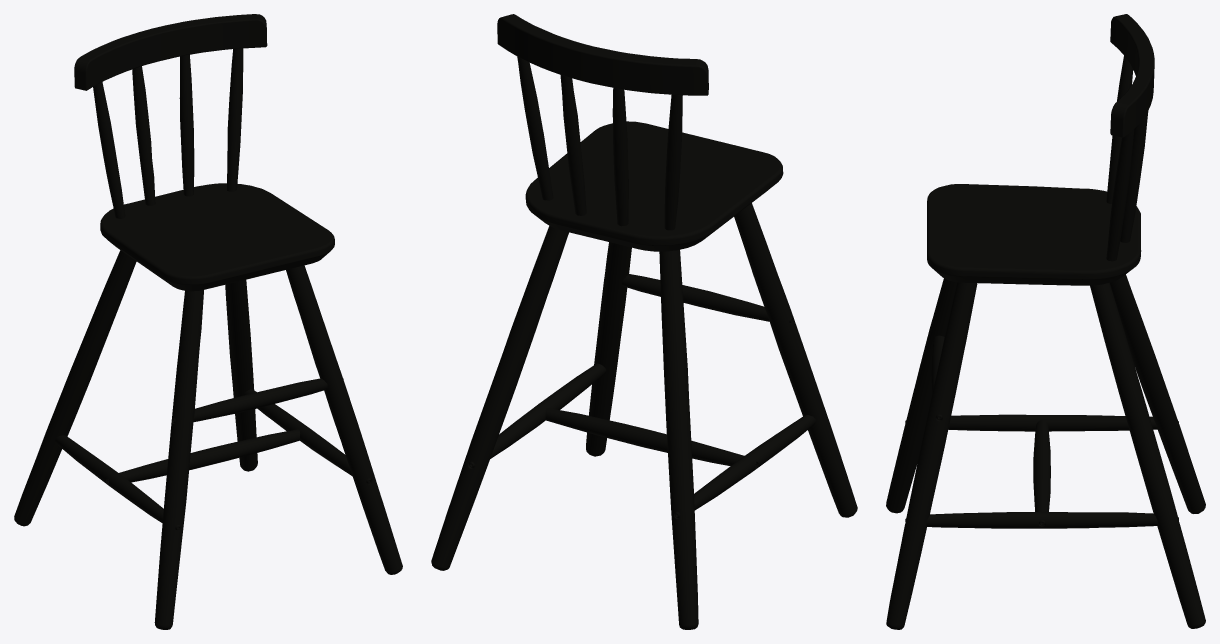
Rendered from agam_krzeso_dzieciece_70253541.glb.
The picture shows the model from 3 angles, left to right: view 1: azimuth 30°, elevation 25°; view 2: azimuth 150°, elevation 25°; view 3: azimuth 270°, elevation 25°; orthographic projection. The views are drawn at different scales.
Parts seen in each view (by area): view 1: agam_krzeso_dzieciece_70253541; view 2: agam_krzeso_dzieciece_70253541; view 3: agam_krzeso_dzieciece_70253541.
Part boxes in pixels (x1,y1,x2,y2): agam_krzeso_dzieciece_70253541: (14,14,402,629); agam_krzeso_dzieciece_70253541: (431,14,857,629); agam_krzeso_dzieciece_70253541: (886,14,1205,629).
Bounding box in the file's own units: 0.4112 × 0.7772 × 0.4409.
Materials: 1 (1 with a texture image).
